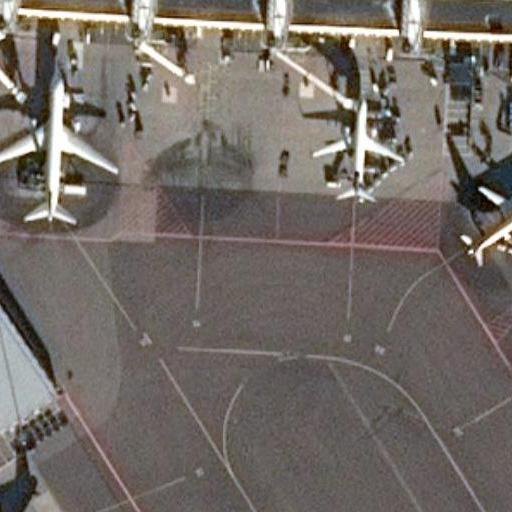Aircraft: (0, 71, 118, 227), (309, 94, 403, 202), (456, 177, 512, 267)
